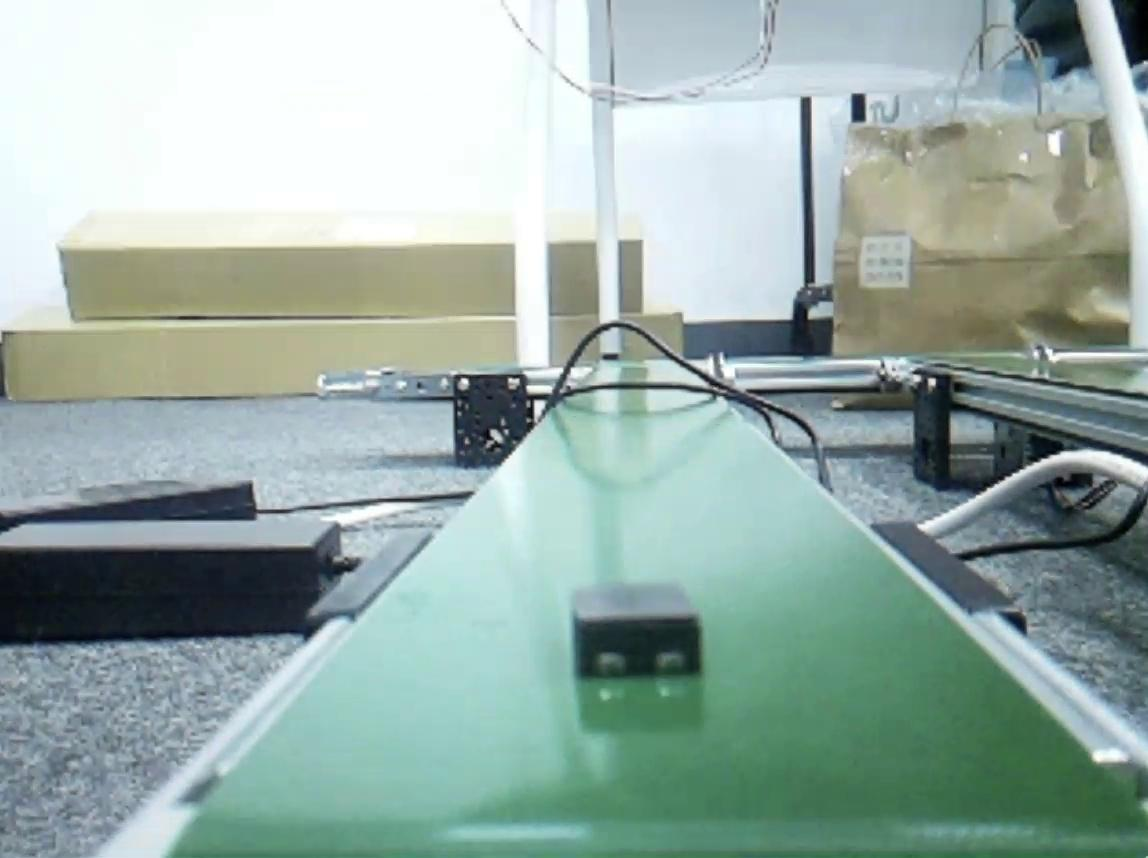inductor: (570, 583, 708, 677)
